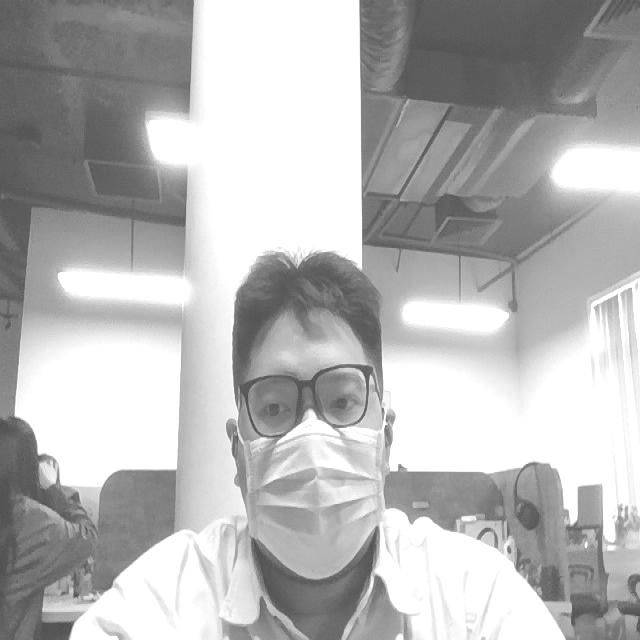fake: (243, 416, 385, 580)
real: (223, 239, 399, 582), (255, 367, 385, 436)
